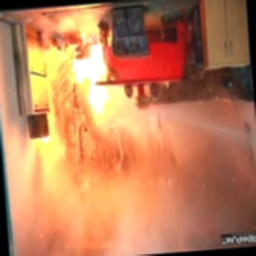fire: (63, 45, 126, 139)
smoke: (94, 147, 217, 251)
